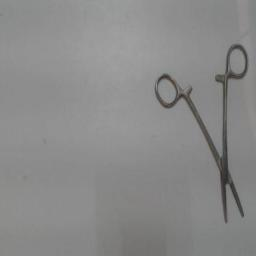Mayo Needle Holder: (152, 39, 252, 229)
